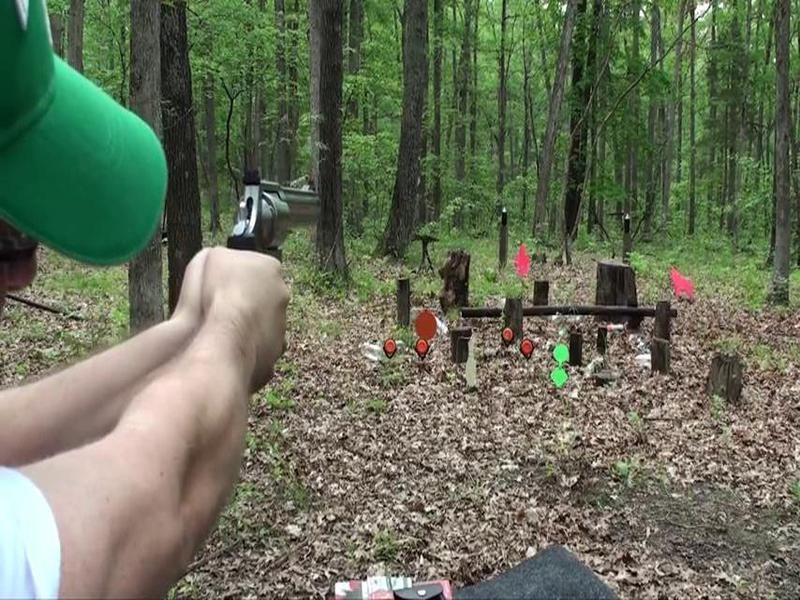Revolver: (216, 155, 343, 327)
